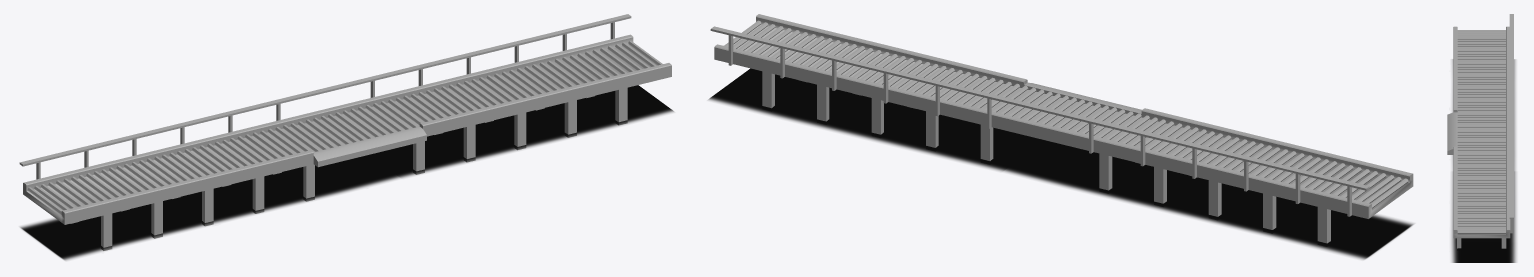
The model's file is rail_condition.glb.
3 renders of one model, left to right at view 1: azimuth 30°, elevation 25°; view 2: azimuth 150°, elevation 25°; view 3: azimuth 270°, elevation 25°, orthographic. The views are drawn at different scales.
Parts seen in each view (by area): view 1: rail_condition, rail_shadow; view 2: rail_condition, rail_shadow; view 3: rail_condition, rail_shadow.
Part boxes in pixels (box(x1,y1,x2,y2)): rail_condition: box(19, 14, 671, 250); rail_shadow: box(20, 85, 673, 260); rail_condition: box(710, 14, 1413, 243); rail_shadow: box(708, 68, 1413, 259); rail_condition: box(1447, 14, 1513, 248); rail_shadow: box(1451, 59, 1515, 262).
Size of the model in its own units: 14.04 by 1.51 by 2.09.
Materials: 2 (1 with a texture image).
